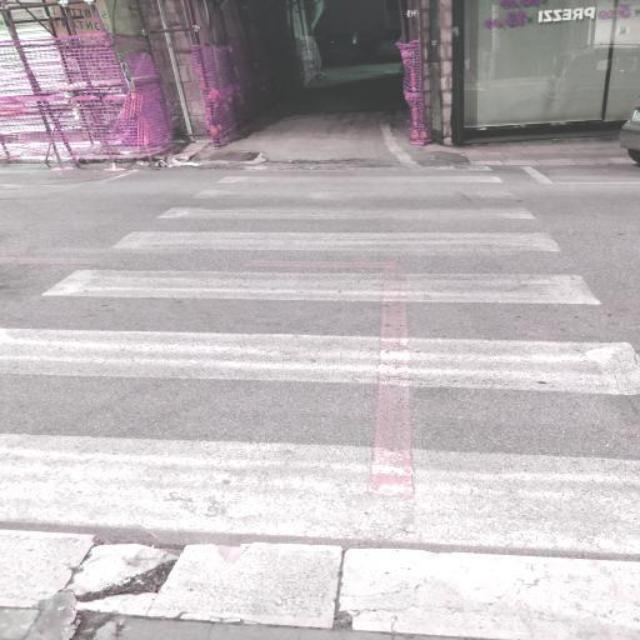sidewalk: (2, 160, 640, 640)
